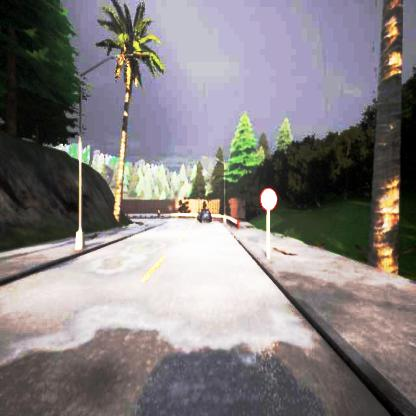vehicle: (196, 209, 211, 223)
